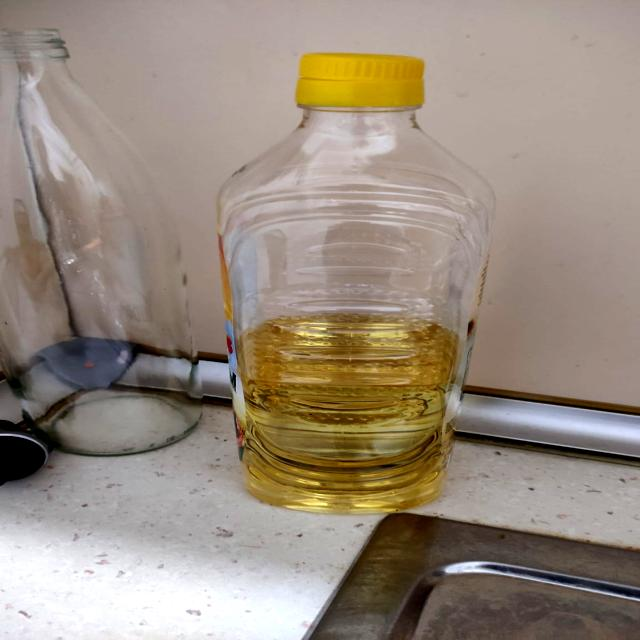olive oil: (196, 44, 520, 518)
